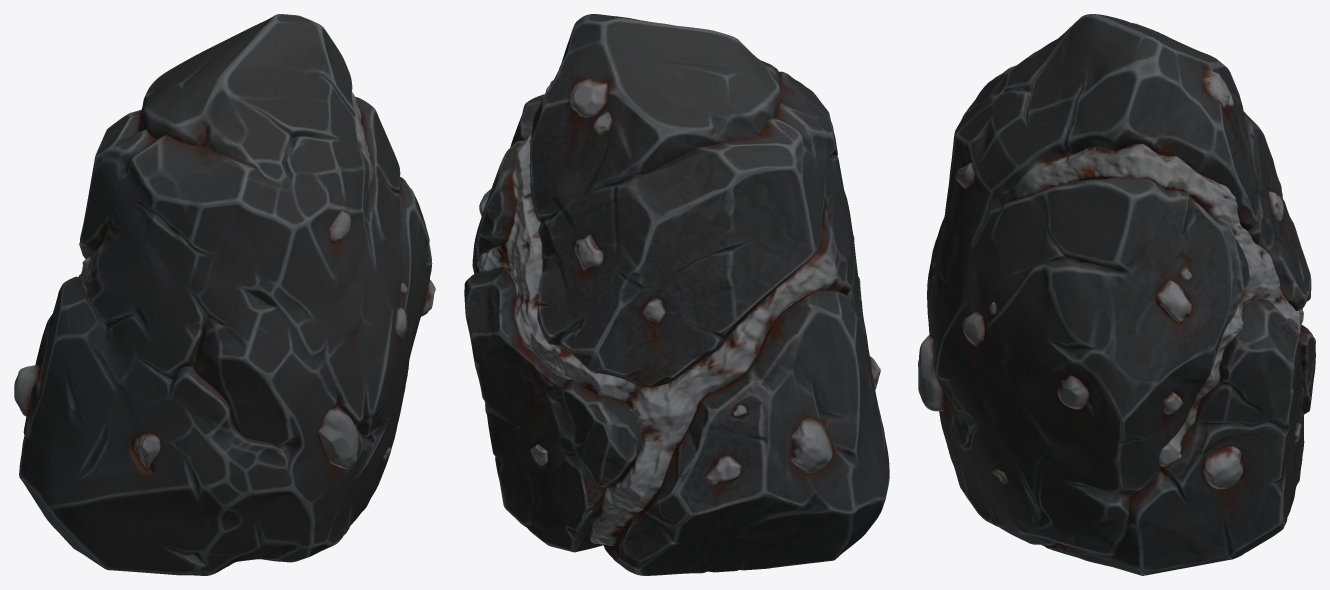
File: Meshy_AI_Stylized_fantasy_survival_RPG_iron_ore_20261105_texture.fbx
3 renders of one model, left to right at view 1: azimuth 30°, elevation 25°; view 2: azimuth 150°, elevation 25°; view 3: azimuth 270°, elevation 25°, orthographic. The views are drawn at different scales.
Parts seen in each view (by area): view 1: Mesh_0; view 2: Mesh_0; view 3: Mesh_0.
Part boxes in pixels (x1=…): Mesh_0: x1=14, y1=14, x2=435, y2=575; Mesh_0: x1=464, y1=14, x2=889, y2=575; Mesh_0: x1=918, y1=14, x2=1315, y2=575.
Size of the model in its own units: 160 by 190 by 136.
Materials: 1 (1 with a texture image).
